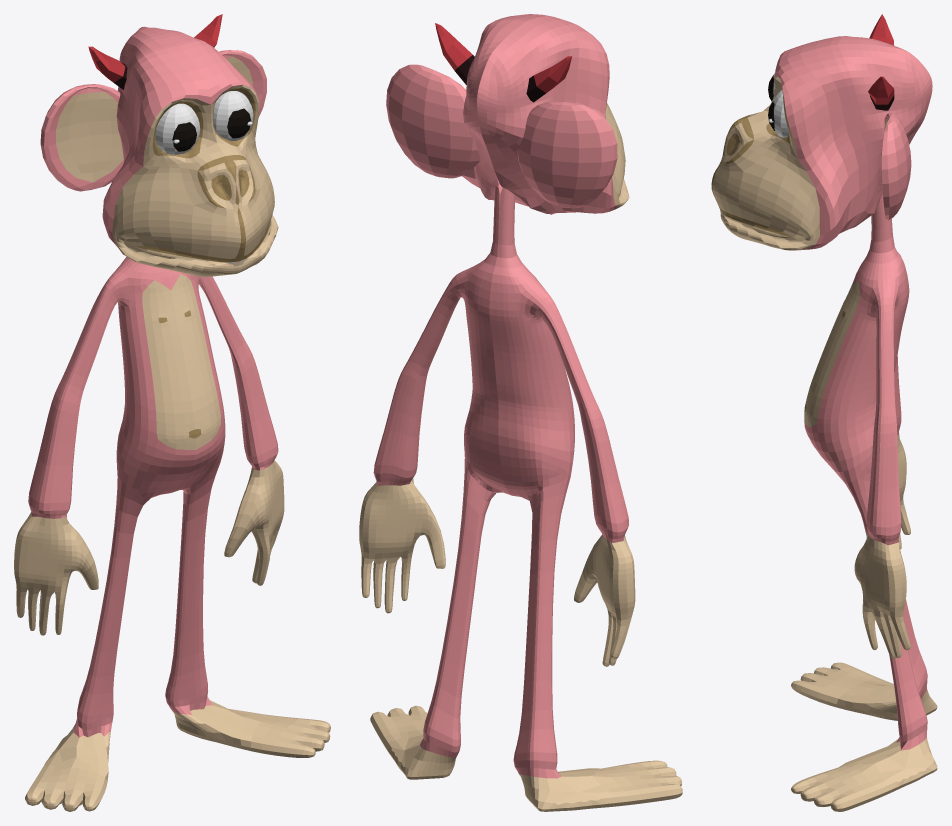
3 views of the same model, side by side, from view 1: azimuth 30°, elevation 25°; view 2: azimuth 150°, elevation 25°; view 3: azimuth 270°, elevation 25° (orthographic). The views are drawn at different scales.
Visible parts, largest first — view 1: body, head_bored, eyes_wide, horns; view 2: body, head_bored, horns; view 3: body, head_bored, horns, eyes_wide.
Part boxes in pixels (x1=…): body: x1=14, y1=50, x2=330, y2=811; head_bored: x1=102, y1=26, x2=278, y2=276; eyes_wide: x1=155, y1=91, x2=253, y2=154; horns: x1=88, y1=14, x2=222, y2=89; body: x1=359, y1=64, x2=682, y2=811; head_bored: x1=462, y1=14, x2=629, y2=214; horns: x1=435, y1=23, x2=572, y2=102; body: x1=791, y1=113, x2=937, y2=811; head_bored: x1=711, y1=36, x2=932, y2=250; horns: x1=868, y1=14, x2=894, y2=110; eyes_wide: x1=768, y1=73, x2=788, y2=137.
Size of the model in its own units: 2.13 by 4.86 by 1.42.
